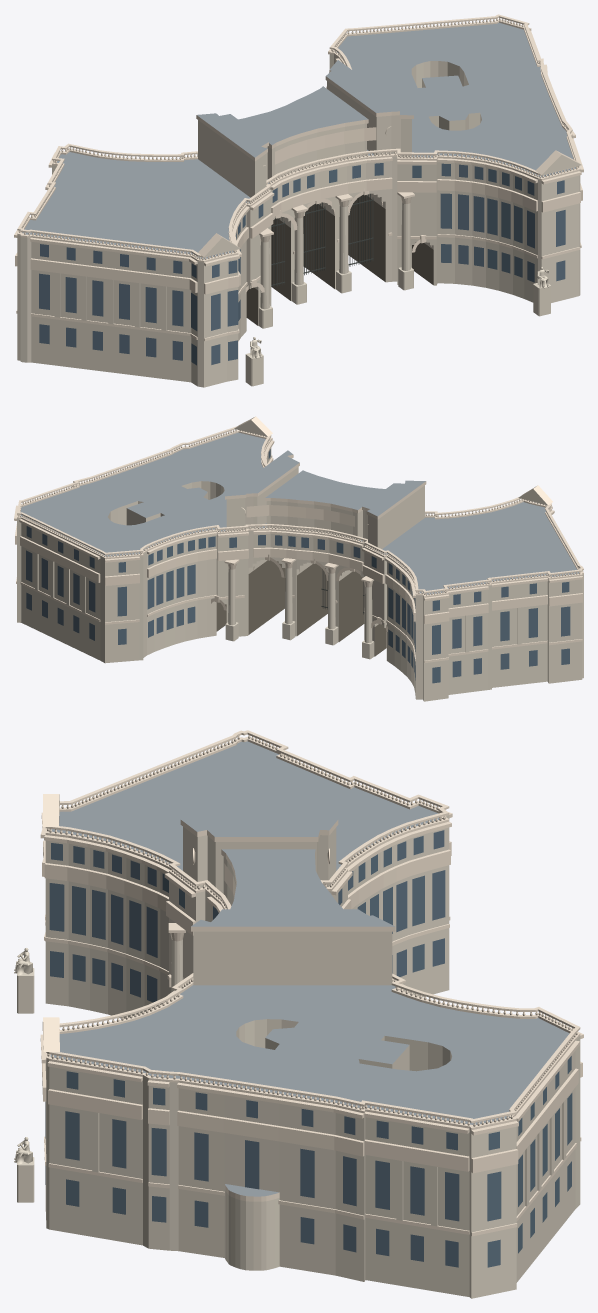
File: london-admiralty-arch.detail.glb
The picture shows the model from 3 angles, top to bottom: view 1: azimuth 30°, elevation 25°; view 2: azimuth 150°, elevation 25°; view 3: azimuth 270°, elevation 25°; orthographic projection. The views are drawn at different scales.
Parts seen in each view (by area): view 1: Admiralty Arch; view 2: Admiralty Arch; view 3: Admiralty Arch.
Part boxes in pixels (x1,y1,x2,y2): Admiralty Arch: [14, 14, 583, 387]; Admiralty Arch: [14, 416, 583, 701]; Admiralty Arch: [14, 730, 583, 1298].
Size of the model in its own units: 96.91 by 26.1 by 59.15.
